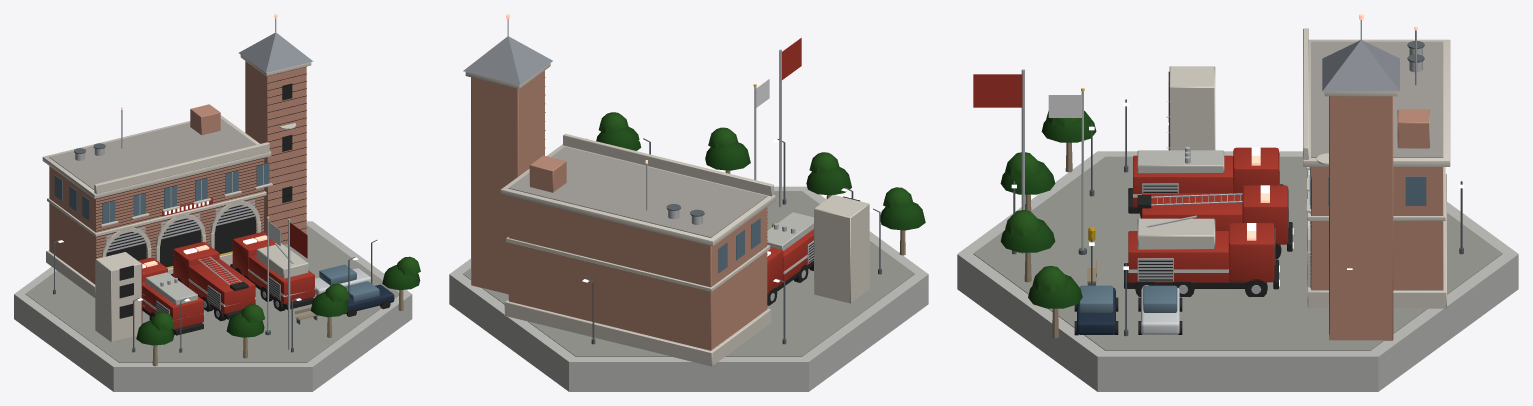
The model's file is fireStation_us.glb.
3 renders of one model, left to right at view 1: azimuth 30°, elevation 25°; view 2: azimuth 150°, elevation 25°; view 3: azimuth 270°, elevation 25°, orthographic. The views are drawn at different scales.
Visible parts, largest first — view 1: brick, wall_concrete, pavers, paint, stone, dark, gravel, leaf, glass, metal, roof_slate, steel_dark (+1 smaller); view 2: brick, wall_concrete, stone, pavers, gravel, leaf, paint, roof_slate, metal, steel_dark, glass, dark; view 3: pavers, wall_concrete, brick, paint, stone, gravel, leaf, metal, dark, roof_slate, glass, steel_dark (+2 smaller).
Part boxes in pixels (box(x1,y1,x2,y2)): brick: box(49, 61, 306, 284); wall_concrete: box(14, 164, 412, 391); pavers: box(25, 225, 399, 362); paint: box(138, 123, 394, 329); stone: box(42, 55, 311, 341); dark: box(96, 66, 390, 335); gravel: box(49, 118, 256, 189); leaf: box(136, 256, 420, 345); glass: box(54, 163, 379, 302); metal: box(75, 18, 293, 349); roof_slate: box(239, 32, 313, 72); steel_dark: box(53, 143, 377, 352); brick: box(471, 70, 767, 350); wall_concrete: box(449, 186, 928, 391); stone: box(465, 63, 869, 366); pavers: box(463, 191, 914, 356); gravel: box(508, 146, 767, 237); leaf: box(596, 112, 925, 230); paint: box(767, 38, 833, 294); roof_slate: box(463, 36, 552, 84); metal: box(507, 19, 813, 300); steel_dark: box(586, 138, 881, 344); glass: box(718, 218, 760, 273); dark: box(545, 77, 859, 307); pavers: box(973, 156, 1502, 350); wall_concrete: box(957, 151, 1518, 391); brick: box(1311, 96, 1443, 340); paint: box(973, 74, 1328, 334); stone: box(1169, 28, 1450, 308); gravel: box(1311, 41, 1443, 157); leaf: box(1000, 110, 1096, 308); metal: box(1021, 20, 1422, 293); dark: box(1074, 71, 1329, 335); roof_slate: box(1322, 40, 1399, 91); glass: box(1079, 152, 1426, 312); steel_dark: box(1012, 41, 1463, 336).
Bounding box in the file's own units: 21.3 × 16.8 × 24.6.
